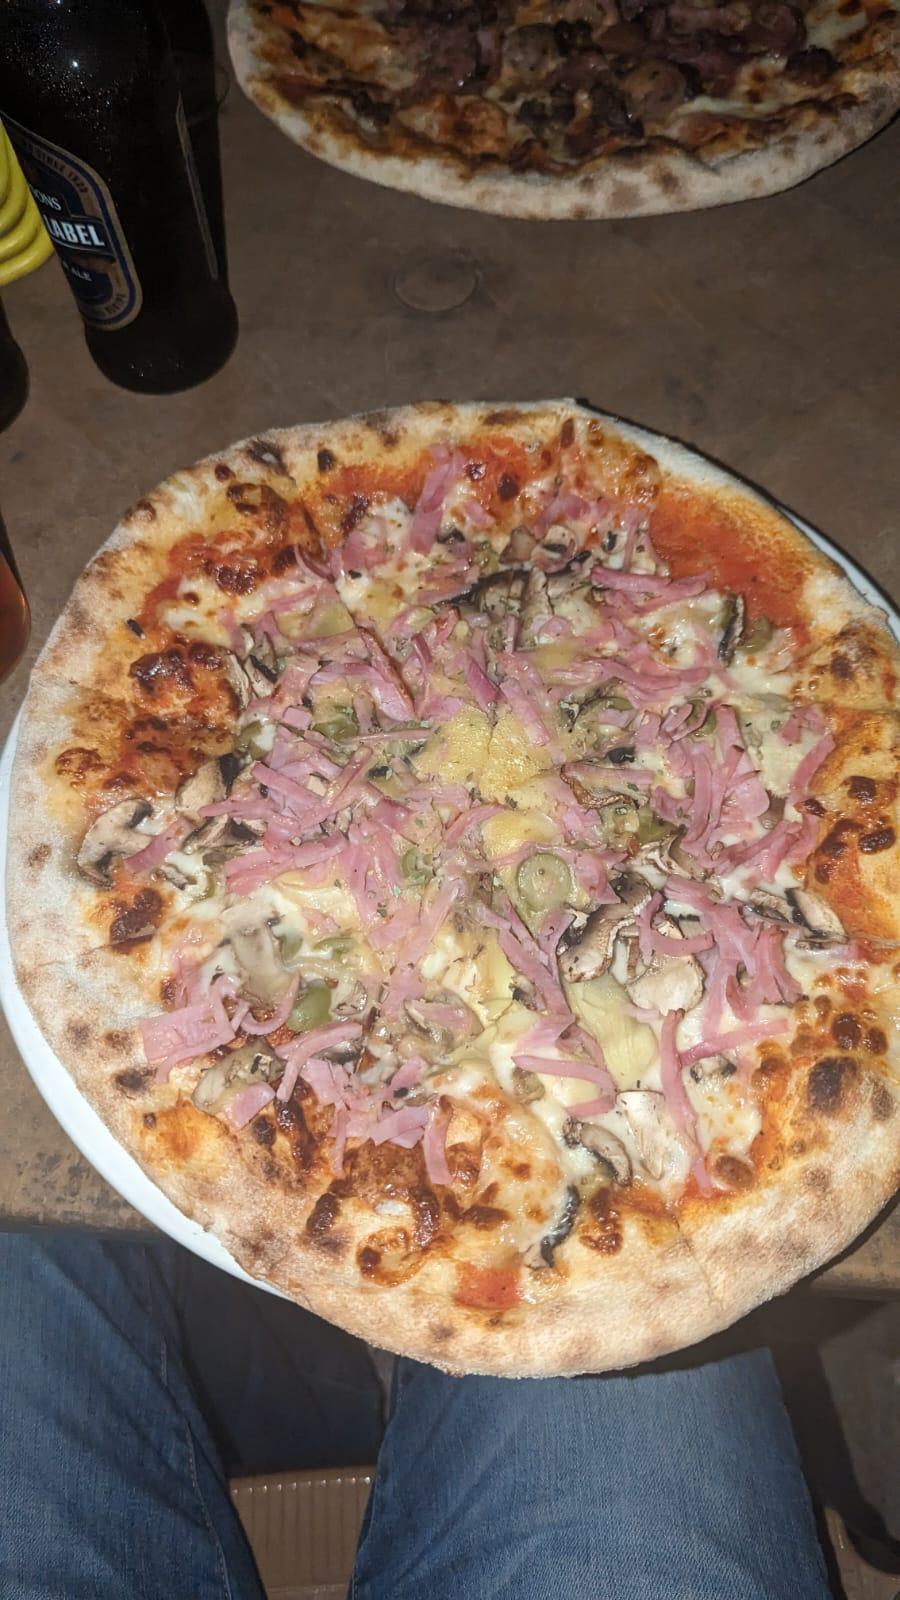Ham: (123, 981, 344, 1119), (211, 726, 384, 874), (285, 611, 495, 725), (653, 891, 795, 1058), (657, 741, 781, 869), (602, 602, 707, 726), (387, 470, 519, 556), (364, 1051, 448, 1166), (359, 879, 452, 965)
Mushroom: (77, 782, 196, 887), (558, 879, 657, 1004), (542, 1105, 638, 1215), (757, 865, 854, 956), (452, 571, 555, 633), (708, 588, 764, 665)
Olives: (292, 955, 341, 1036), (579, 687, 645, 737), (521, 852, 566, 905), (230, 722, 276, 760)
Pizza: (0, 401, 900, 1371), (223, 5, 900, 226)
